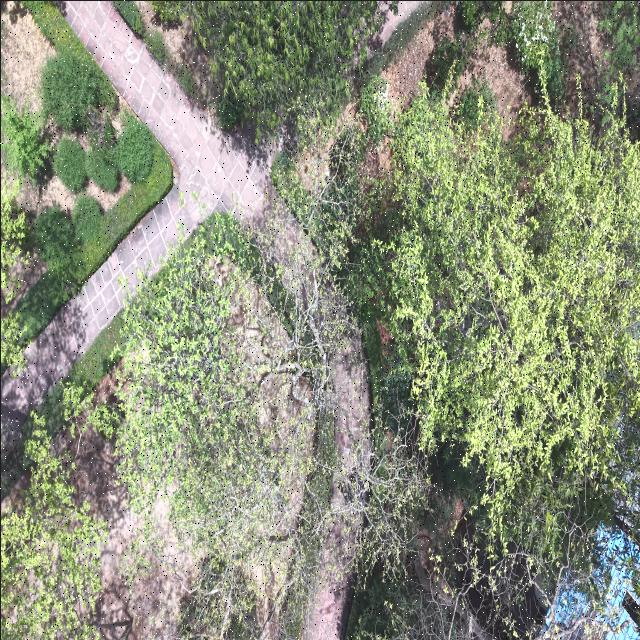DRY_AREA: (1, 1, 274, 415), (1, 1, 270, 414), (53, 426, 193, 639), (225, 281, 315, 537), (449, 19, 534, 139), (1, 4, 55, 112), (1, 4, 54, 111), (369, 1, 430, 51)
PATHWAYS: (1, 1, 271, 417), (1, 1, 270, 414)
VEGETATION_TREE: (91, 1, 639, 639), (273, 88, 639, 637), (335, 93, 637, 632), (117, 214, 424, 638), (368, 94, 639, 545), (88, 215, 360, 637), (88, 215, 333, 635), (117, 215, 317, 637), (12, 1, 172, 353), (1, 104, 172, 373), (153, 1, 380, 138), (17, 142, 172, 341), (1, 416, 104, 639), (36, 113, 171, 283), (491, 1, 639, 139), (426, 1, 567, 104), (27, 1, 117, 141), (23, 314, 122, 437), (24, 1, 117, 109), (114, 1, 204, 105), (346, 564, 468, 639), (362, 1, 445, 80), (591, 1, 639, 136), (510, 1, 564, 99), (42, 48, 100, 131), (144, 28, 204, 104), (1, 96, 50, 179), (1, 172, 27, 303), (1, 172, 27, 302), (512, 1, 558, 70), (600, 1, 639, 72), (34, 205, 75, 272), (427, 33, 474, 89), (115, 116, 154, 182), (359, 76, 391, 143), (162, 57, 205, 105), (456, 78, 496, 129), (53, 138, 87, 192), (87, 111, 117, 164), (1, 313, 25, 375), (85, 148, 118, 192), (457, 1, 503, 32), (73, 194, 102, 243), (113, 1, 144, 36), (145, 31, 169, 67), (153, 1, 183, 23), (459, 1, 478, 30), (1, 55, 7, 91)
